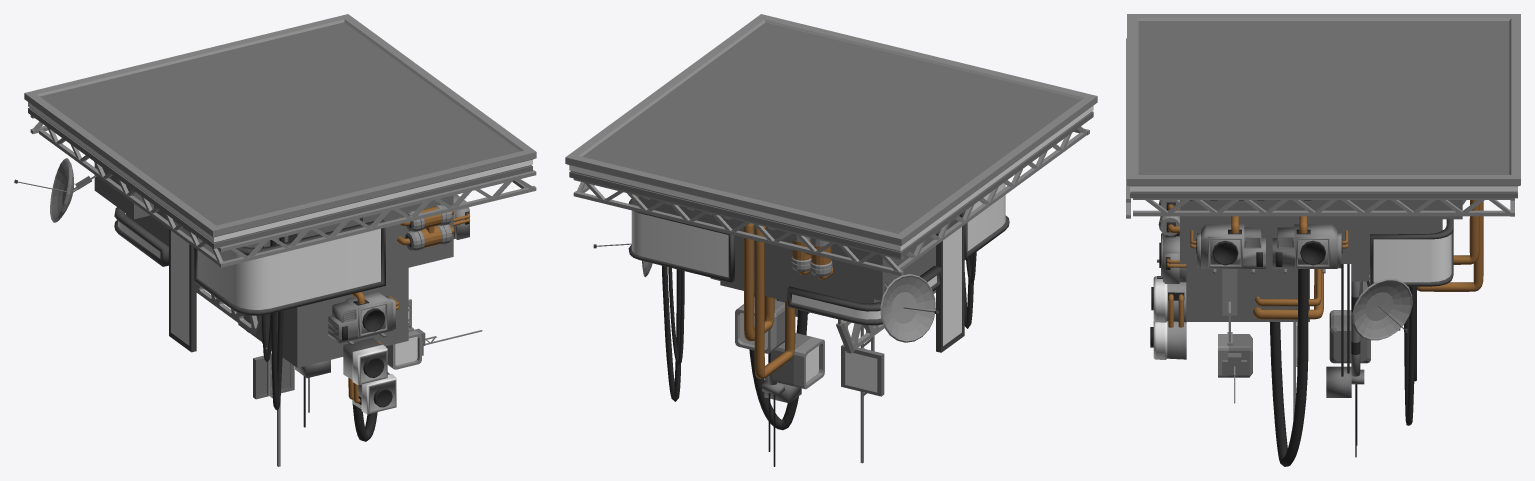
The model's file is n_platform_4x4.glb.
3 renders of one model, left to right at view 1: azimuth 30°, elevation 25°; view 2: azimuth 150°, elevation 25°; view 3: azimuth 270°, elevation 25°, orthographic. The views are drawn at different scales.
Parts seen in each view (by area): view 1: Platform_4x4; view 2: Platform_4x4; view 3: Platform_4x4.
Part boxes in pixels (x1=…): Platform_4x4: x1=14, y1=14, x2=536, y2=466; Platform_4x4: x1=565, y1=14, x2=1097, y2=466; Platform_4x4: x1=1126, y1=14, x2=1520, y2=466.
Bounding box in the file's own units: 4.47 × 3.76 × 3.9.
